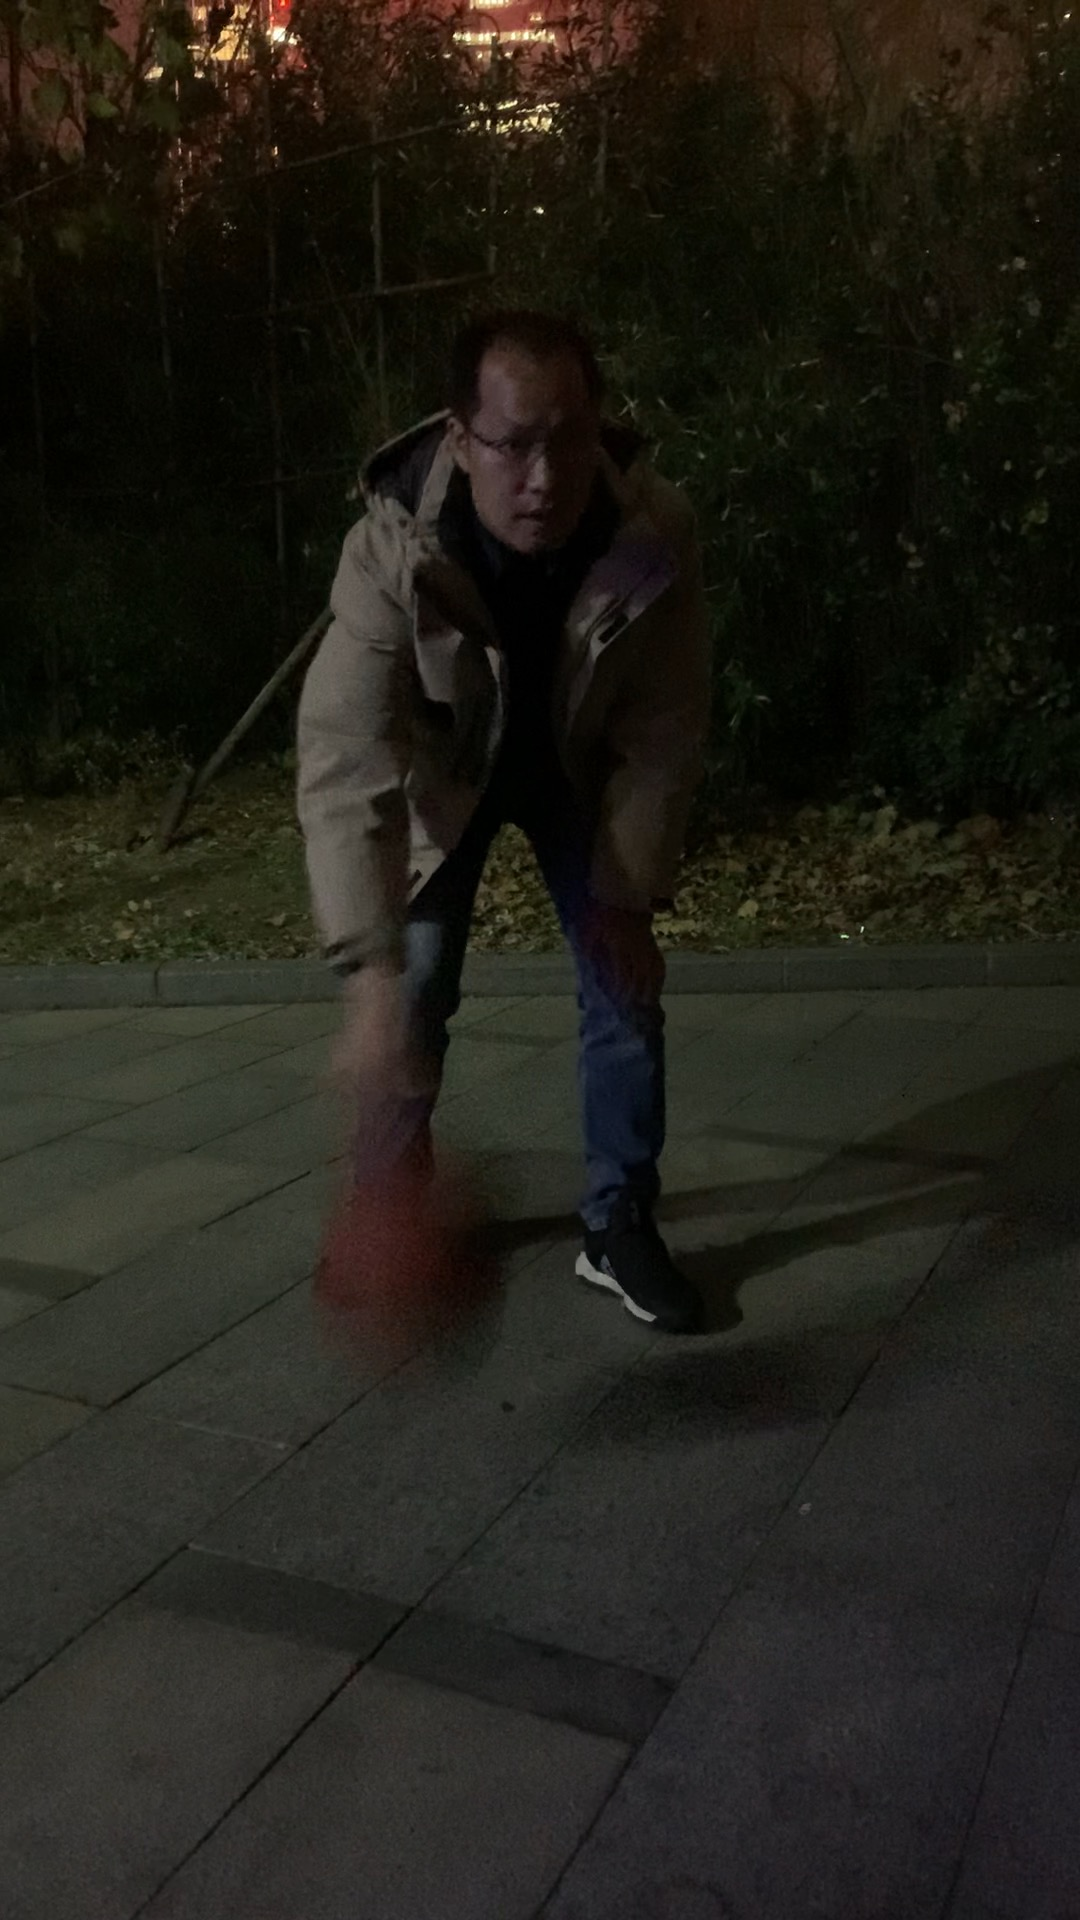ball: (318, 1180, 513, 1365)
